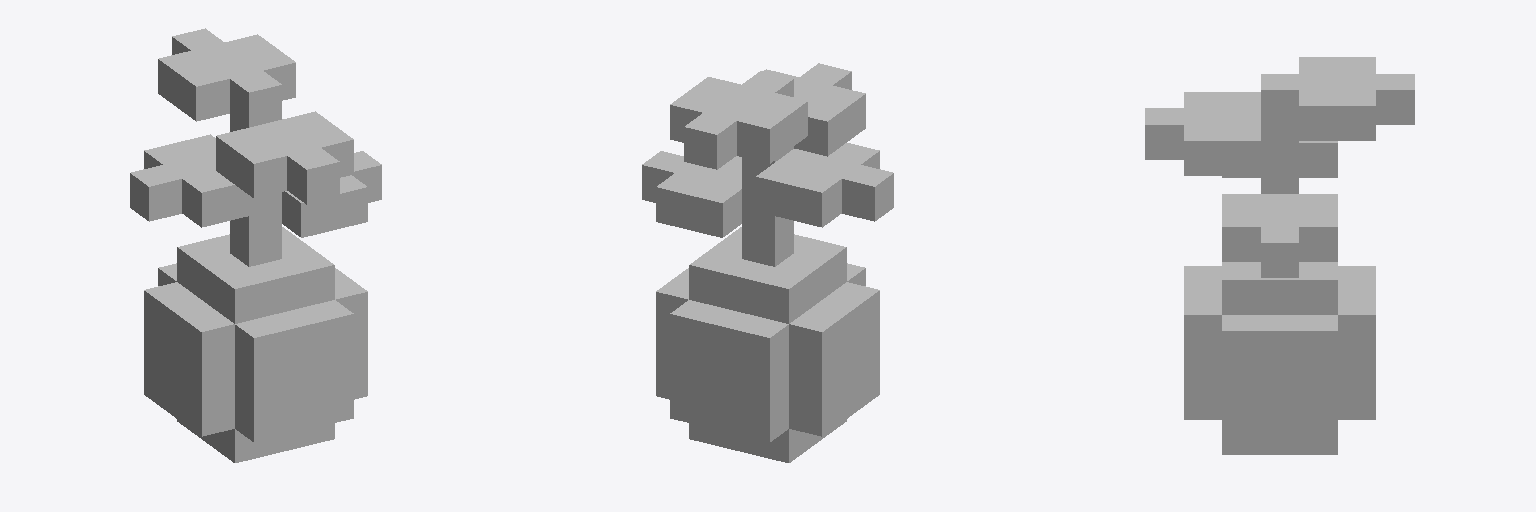
Rendered from Pot_Plant.obj.
3 renders of one model, left to right at view 1: azimuth 30°, elevation 25°; view 2: azimuth 150°, elevation 25°; view 3: azimuth 270°, elevation 25°, orthographic.
Visible parts, largest first — view 1: Pot_Plant; view 2: Pot_Plant; view 3: Pot_Plant.
Part boxes in pixels (x1,y1,x2,y2): Pot_Plant: (130, 28, 381, 462); Pot_Plant: (642, 63, 893, 462); Pot_Plant: (1145, 57, 1414, 454).
Size of the model in its own units: 7 by 10 by 7.